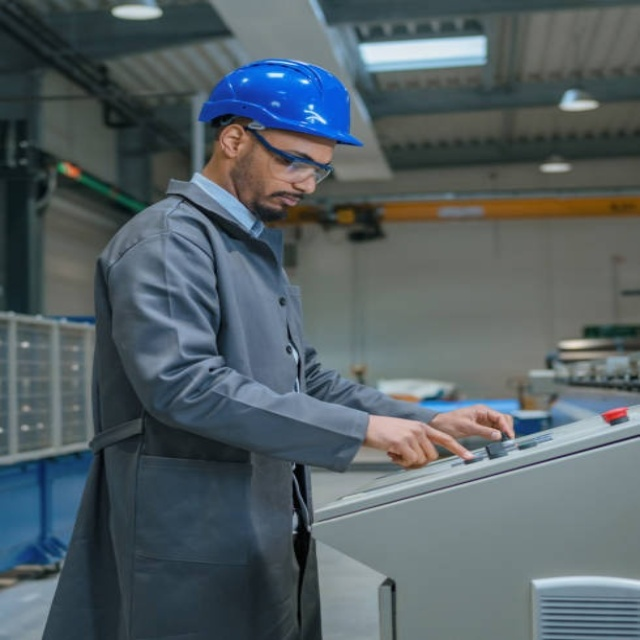Gafas: (236, 122, 333, 186)
Sin_guantes: (368, 408, 475, 468), (428, 398, 517, 442)
Sin_mascara: (255, 187, 315, 216)
